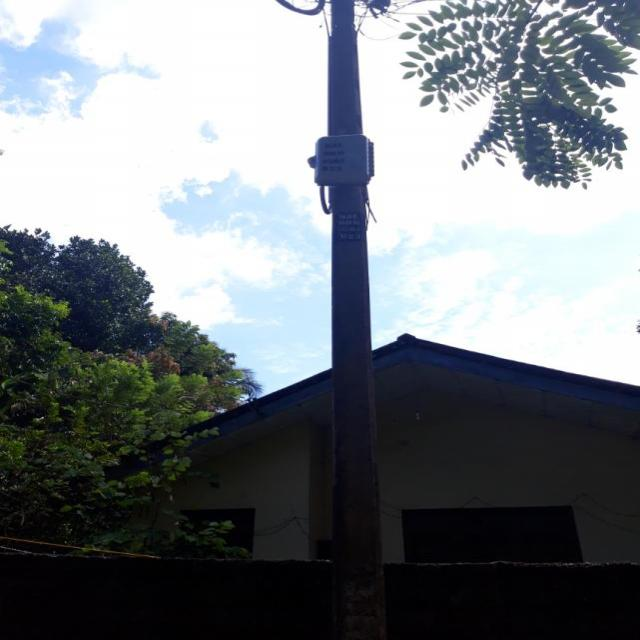light_pole: (294, 0, 404, 640)
